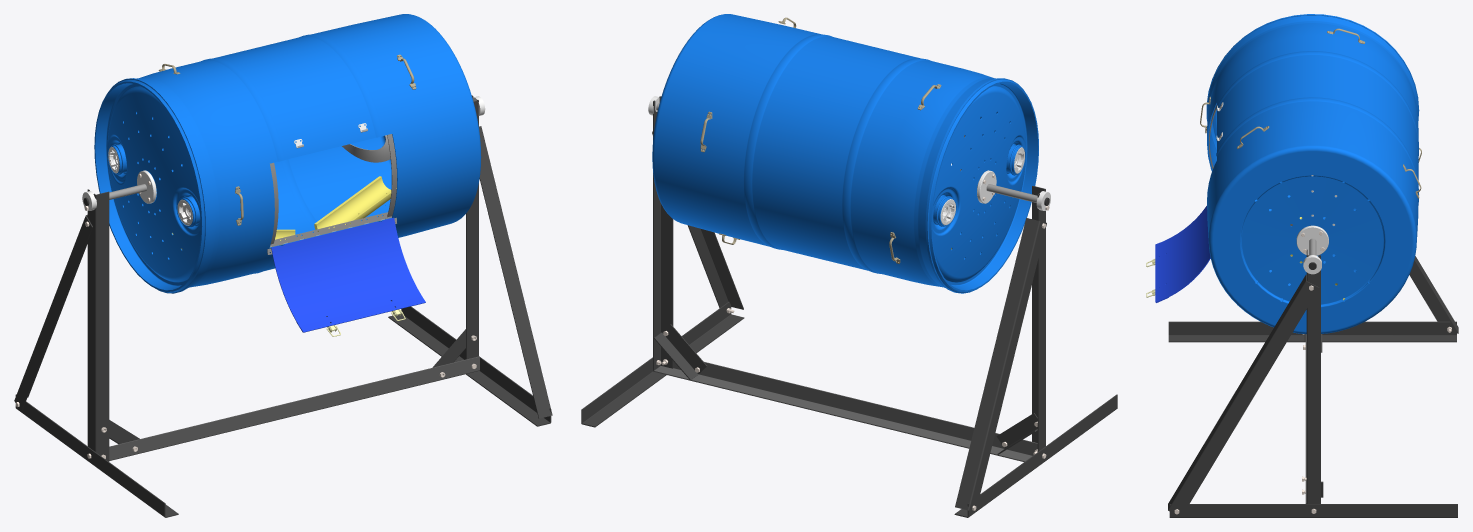
File: modelo2.glb
The picture shows the model from 3 angles, left to right: view 1: azimuth 30°, elevation 25°; view 2: azimuth 150°, elevation 25°; view 3: azimuth 270°, elevation 25°; orthographic projection. The views are drawn at different scales.
Parts seen in each view (by area): view 1: contenedor-1/55 Gal Closed Top Plastic Drum.STEP-1/55 Gal Cl, tapa con bisagras-1/Tapa-1, Barra80cm vertical -1, Barra119cm-1, Barra 80 cm diagonal-3, Barra80cm horizontal-6, Barra 80 cm diagonal-1, Barra80cm horizontal-5, Barra80cm vertical 2-2, PVC interior-2, subensamble de eje-1/Eje-1; view 2: contenedor-1/55 Gal Closed Top Plastic Drum.STEP-1/55 Gal Cl, Barra119cm-1, Barra 80 cm diagonal-1, Barra80cm horizontal-6, Barra80cm vertical 2-2, Barra80cm vertical -1, Barra80cm horizontal-5, Barra 80 cm diagonal-3, Barra de 15cm-2, Barra de 15cm-1; view 3: contenedor-1/55 Gal Closed Top Plastic Drum.STEP-1/55 Gal Cl, Barra 80 cm diagonal-3, Barra80cm horizontal-5, Barra80cm horizontal-6, Barra80cm vertical 2-2, tapa con bisagras-1/Tapa-1, Barra 80 cm diagonal-1, Brida-1.
Part boxes in pixels (left/top/right/bottom): contenedor-1/55 Gal Closed Top Plastic Drum.STEP-1/55 Gal Cl: left=94, top=14, right=481, bottom=293; tapa con bisagras-1/Tapa-1: left=271, top=217, right=425, bottom=336; Barra80cm vertical -1: left=87, top=189, right=109, bottom=461; Barra119cm-1: left=109, top=356, right=479, bottom=460; Barra 80 cm diagonal-3: left=479, top=126, right=552, bottom=418; Barra80cm horizontal-6: left=388, top=306, right=551, bottom=426; Barra 80 cm diagonal-1: left=14, top=214, right=92, bottom=411; Barra80cm horizontal-5: left=15, top=394, right=178, bottom=517; Barra80cm vertical 2-2: left=466, top=95, right=478, bottom=359; PVC interior-2: left=314, top=176, right=396, bottom=231; subensamble de eje-1/Eje-1: left=109, top=135, right=390, bottom=199; contenedor-1/55 Gal Closed Top Plastic Drum.STEP-1/55 Gal Cl: left=652, top=14, right=1038, bottom=293; Barra119cm-1: left=653, top=361, right=1037, bottom=461; Barra 80 cm diagonal-1: left=955, top=218, right=1046, bottom=512; Barra80cm horizontal-6: left=581, top=302, right=744, bottom=427; Barra80cm vertical 2-2: left=653, top=96, right=673, bottom=370; Barra80cm vertical -1: left=1032, top=186, right=1045, bottom=451; Barra80cm horizontal-5: left=954, top=394, right=1117, bottom=517; Barra 80 cm diagonal-3: left=652, top=131, right=743, bottom=309; Barra de 15cm-2: left=654, top=324, right=706, bottom=380; Barra de 15cm-1: left=996, top=413, right=1037, bottom=454; contenedor-1/55 Gal Closed Top Plastic Drum.STEP-1/55 Gal Cl: left=1206, top=14, right=1419, bottom=334; Barra 80 cm diagonal-3: left=1168, top=275, right=1319, bottom=517; Barra80cm horizontal-5: left=1168, top=321, right=1456, bottom=342; Barra80cm horizontal-6: left=1169, top=504, right=1457, bottom=517; Barra80cm vertical 2-2: left=1306, top=249, right=1320, bottom=503; tapa con bisagras-1/Tapa-1: left=1146, top=206, right=1210, bottom=302; Barra 80 cm diagonal-1: left=1409, top=256, right=1458, bottom=333; Brida-1: left=1296, top=225, right=1328, bottom=255.
Size of the model in its own units: 1.23 by 1.08 by 0.8672.
